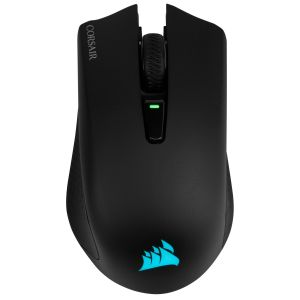mouse: (68, 3, 237, 295)
